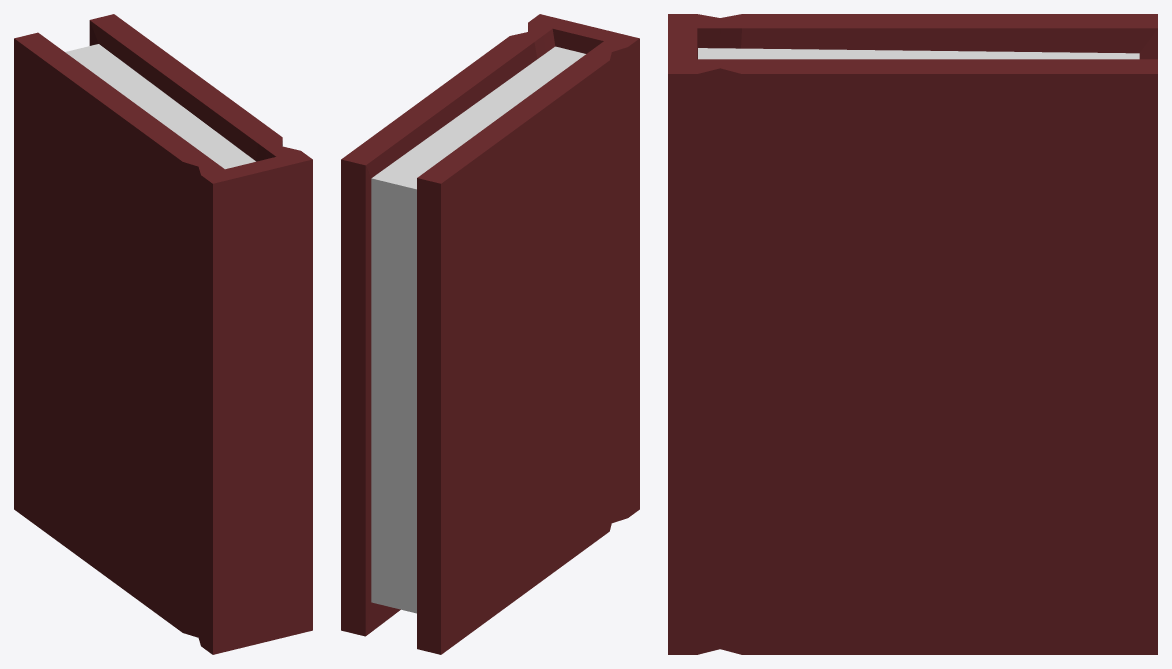
File: RedBook.fbx
3 renders of one model, left to right at view 1: azimuth 30°, elevation 25°; view 2: azimuth 150°, elevation 25°; view 3: azimuth 270°, elevation 25°, orthographic. The views are drawn at different scales.
Visible parts, largest first — view 1: Red Book; view 2: Red Book; view 3: Red Book.
Boxes of the visible parts, <box> form: Red Book: <box>14,14,312,654</box>; Red Book: <box>341,14,639,654</box>; Red Book: <box>668,14,1157,654</box>.
Bounding box in the file's own units: 23.49 × 106 × 80.88.
